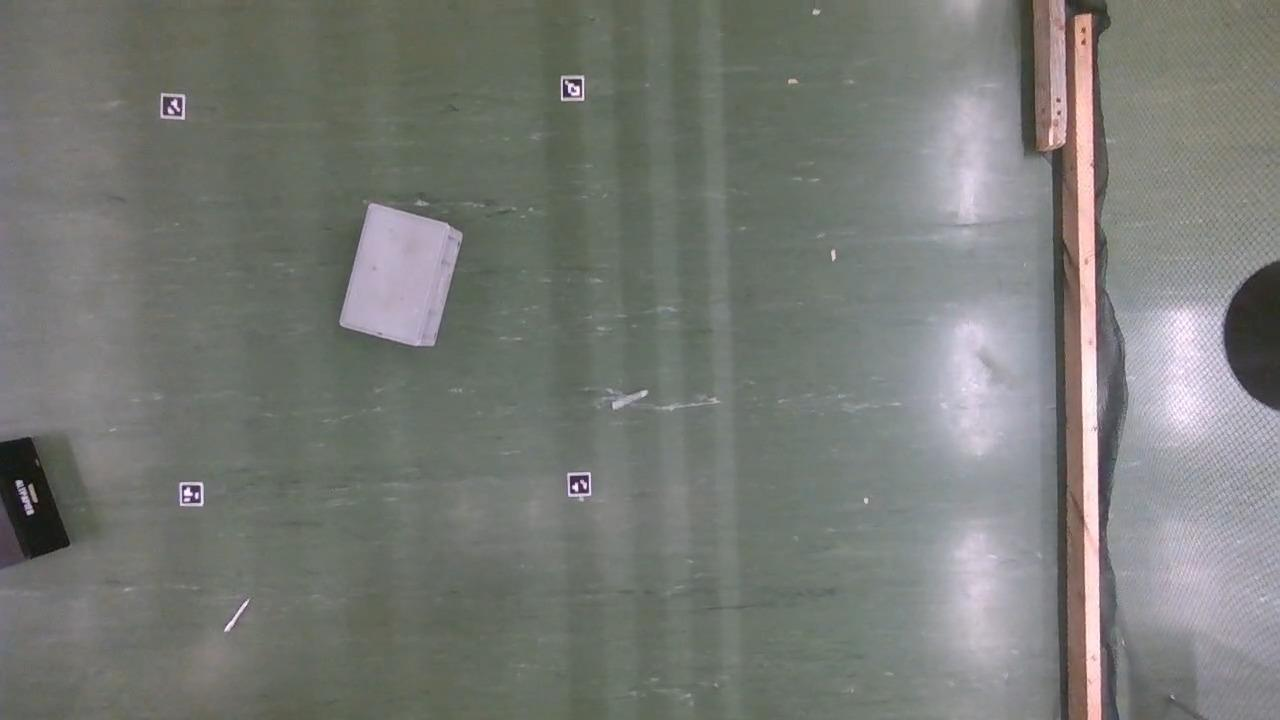probes: (224, 597, 250, 632), (611, 390, 647, 409)
rako: (339, 203, 462, 345)
